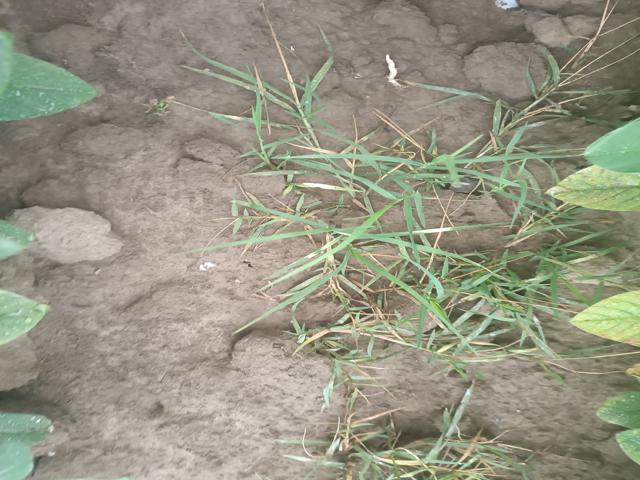bad weed: (184, 39, 609, 207), (243, 188, 572, 361), (286, 355, 534, 480)
